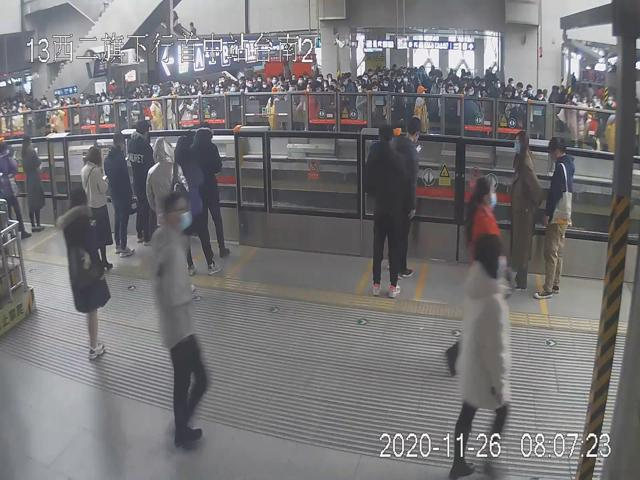person: (450, 232, 514, 480), (150, 192, 211, 444), (56, 185, 112, 362), (363, 123, 403, 298), (176, 131, 220, 275), (536, 135, 574, 298), (509, 128, 543, 290), (81, 148, 115, 268), (105, 132, 137, 257), (20, 136, 47, 231)
